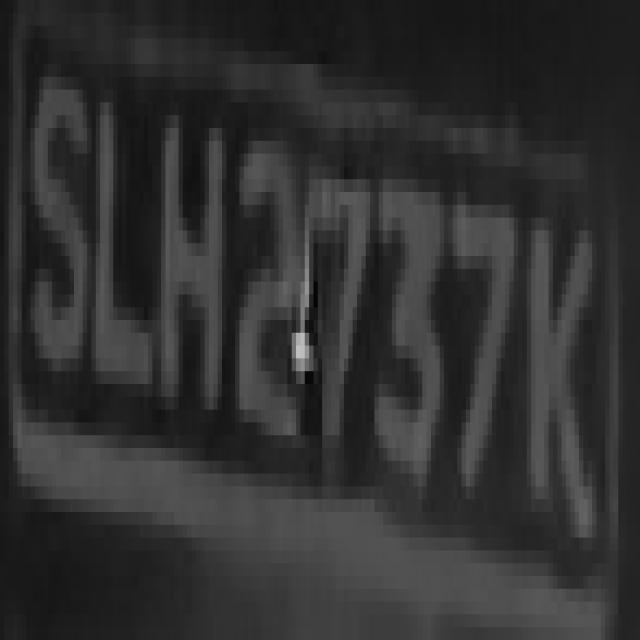2: (209, 102, 313, 500)
3: (366, 115, 435, 512)
7: (296, 128, 374, 474), (435, 128, 505, 499)
H: (157, 64, 226, 448)
K: (518, 154, 597, 602)
L: (87, 51, 152, 435)
S: (22, 38, 96, 410)
